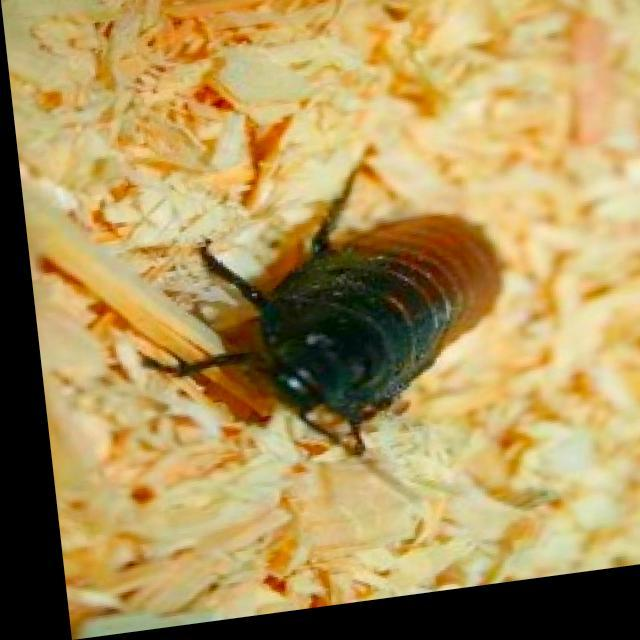cockroach: (168, 145, 507, 460)
